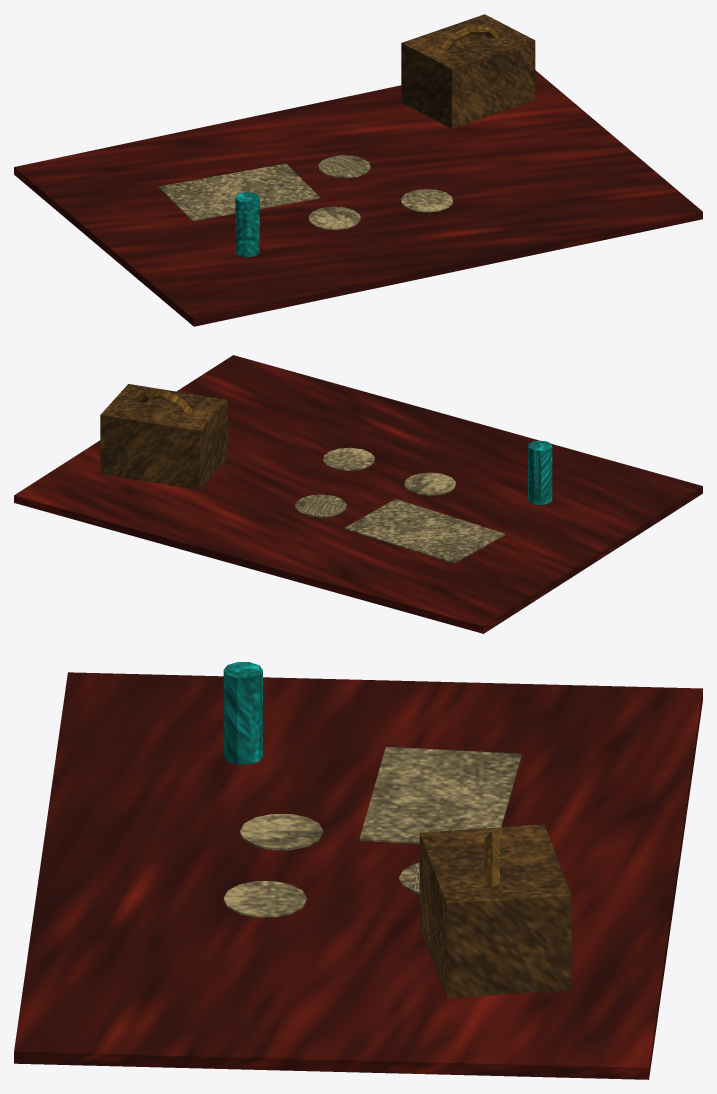
Rendered from west-picnic-blanket.glb.
3 renders of one model, top to bottom at view 1: azimuth 30°, elevation 25°; view 2: azimuth 150°, elevation 25°; view 3: azimuth 270°, elevation 25°, orthographic. The views are drawn at different scales.
Visible parts, largest first — view 1: west-picnic-blanket; view 2: west-picnic-blanket; view 3: west-picnic-blanket.
Part boxes in pixels (<box>): west-picnic-blanket: <box>14,14,702,326</box>; west-picnic-blanket: <box>14,355,702,633</box>; west-picnic-blanket: <box>14,662,702,1079</box>.
Bounding box in the file's own units: 8.53 × 1.64 × 6.28.
1 material, 1 textured.
